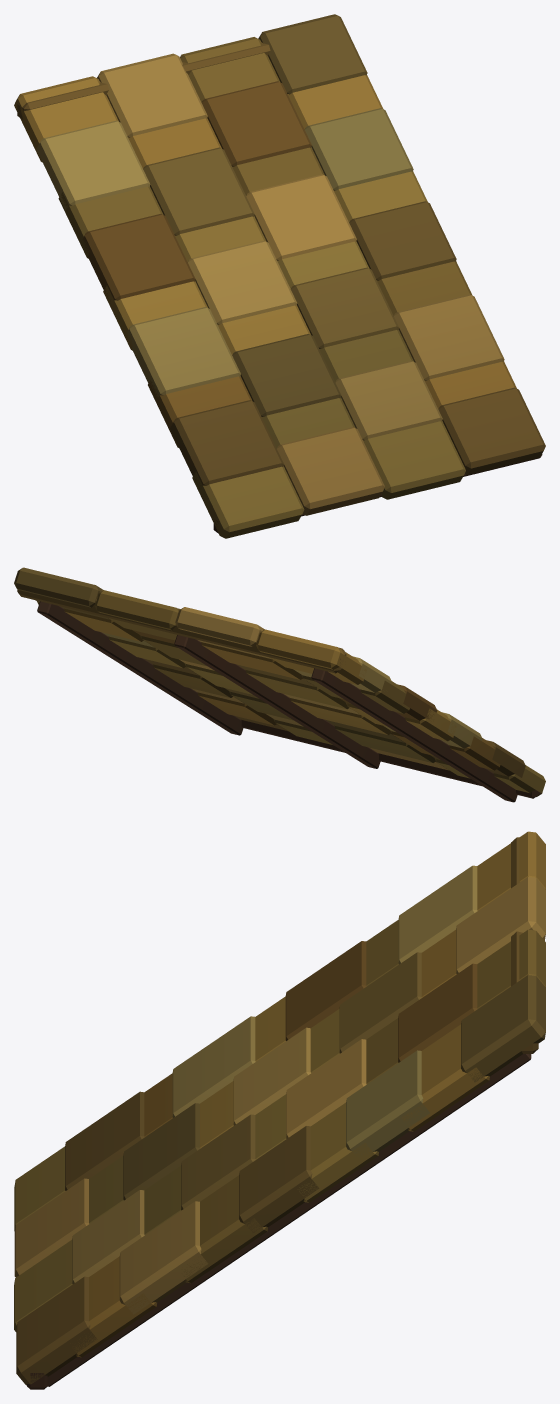
Rendered from piece_thatchslope.glb.
The picture shows the model from 3 angles, top to bottom: view 1: azimuth 30°, elevation 25°; view 2: azimuth 150°, elevation 25°; view 3: azimuth 270°, elevation 25°; orthographic projection. The views are drawn at different scales.
Parts seen in each view (by area): view 1: Base; view 2: Base; view 3: Base.
Boxes of the visible parts, left/top/right/bottom form: Base: left=14, top=14, right=545, bottom=538; Base: left=14, top=567, right=545, bottom=802; Base: left=14, top=831, right=545, bottom=1389.
Bounding box in the file's own units: 4 × 3.59 × 4.58.
